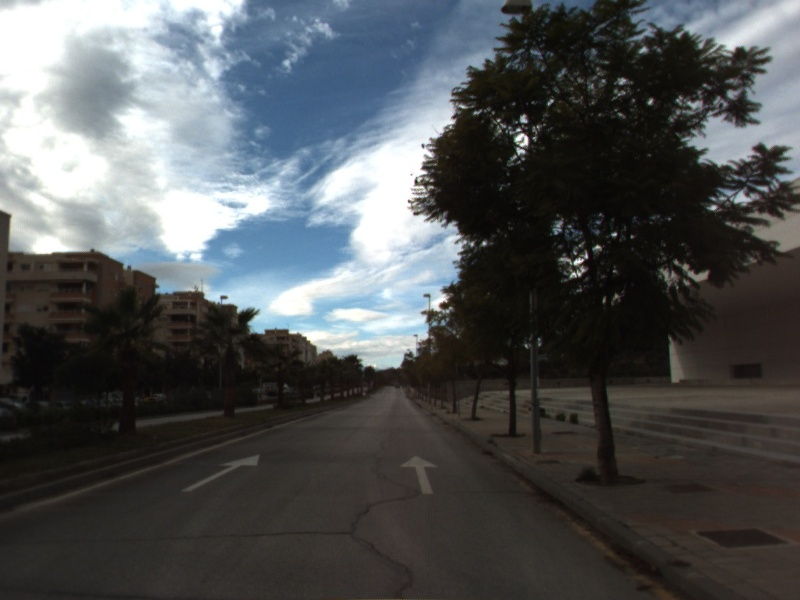STRAIGHT: (179, 452, 261, 493), (398, 453, 441, 496)
